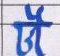au_matra: (24, 5, 50, 55)
